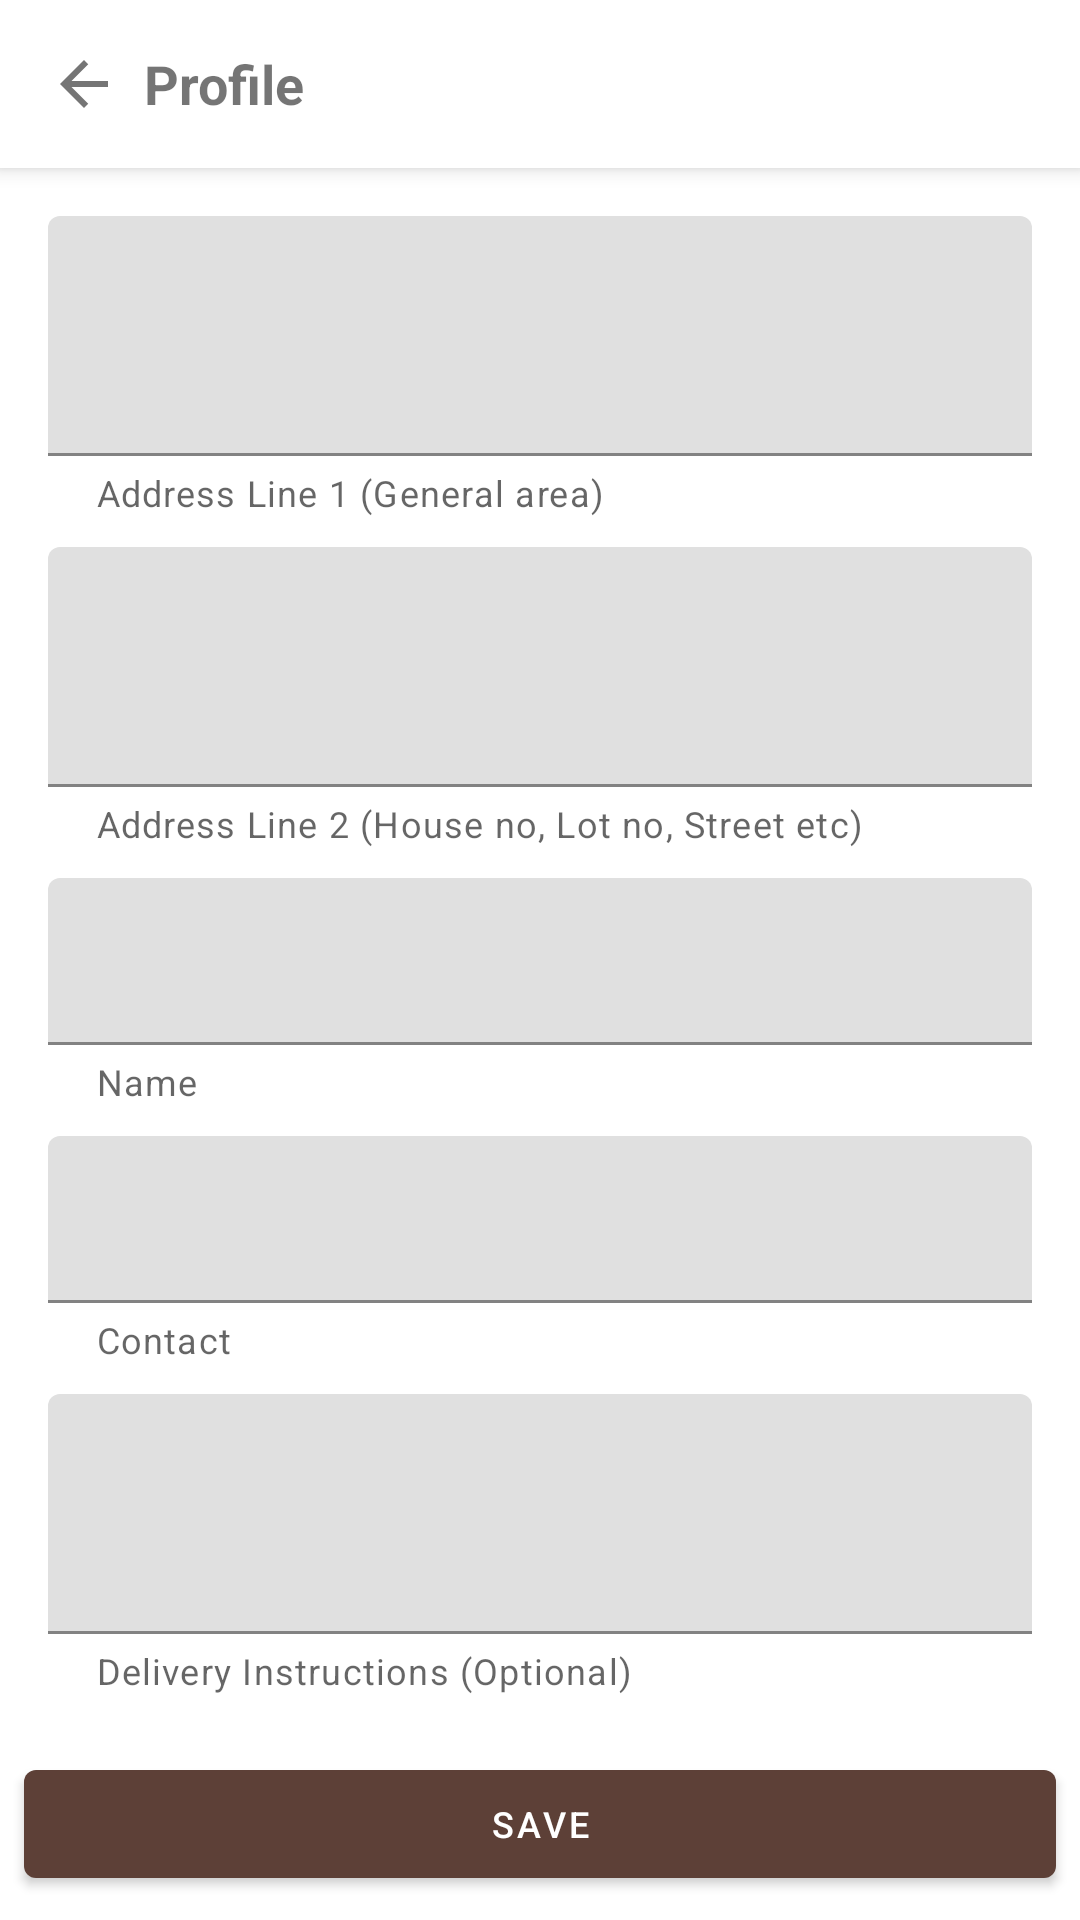

Icon click points for this 1080px x 1920px phone screenshot, format (x=x, y=y):
arrow back: (x=84, y=84)
